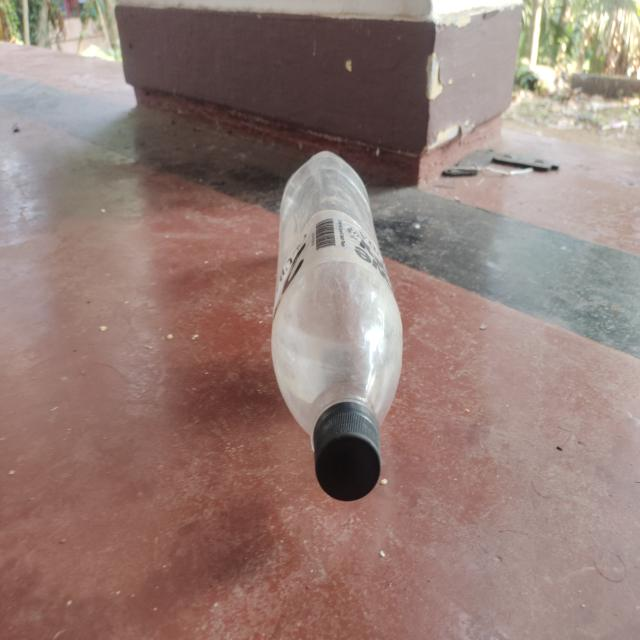plastic: (276, 150, 402, 506)
